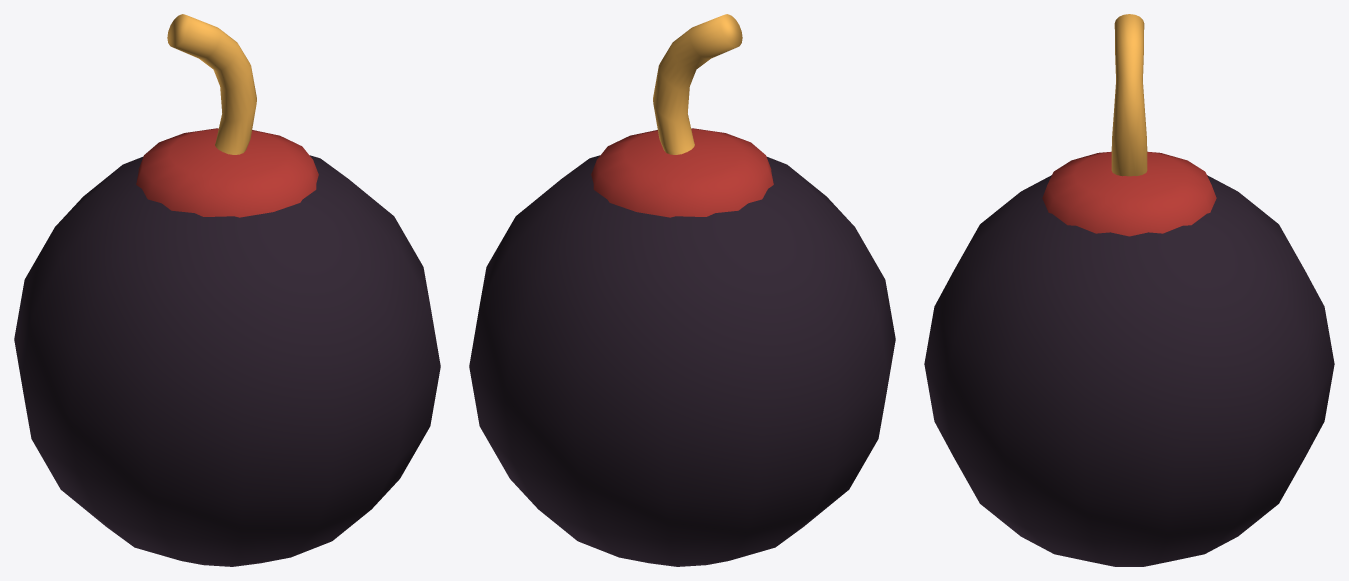
The model's file is Bomb_Skin_0_Default.fbx.
3 renders of one model, left to right at view 1: azimuth 30°, elevation 25°; view 2: azimuth 150°, elevation 25°; view 3: azimuth 270°, elevation 25°, orthographic. The views are drawn at different scales.
Visible parts, largest first — view 1: BombOptimized; view 2: BombOptimized; view 3: BombOptimized.
Boxes of the visible parts, box(x1,y1,x2,y2) form: BombOptimized: box(14, 14, 440, 566); BombOptimized: box(469, 14, 895, 566); BombOptimized: box(924, 14, 1334, 566).
Size of the model in its own units: 195 by 278 by 200.
